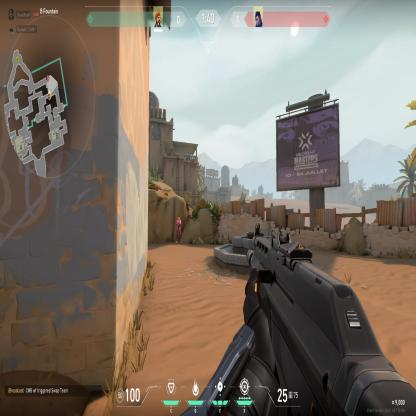enemy: (175, 214, 182, 244)
